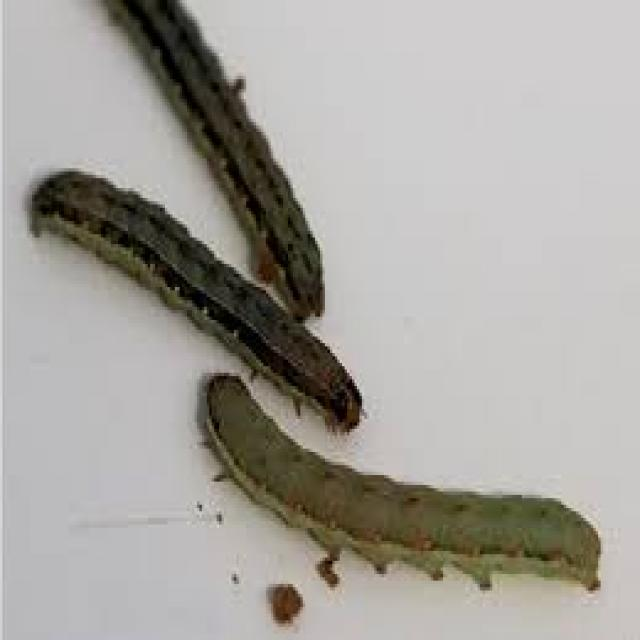armyworm: (190, 370, 607, 599), (26, 164, 366, 430), (100, 1, 327, 315)
